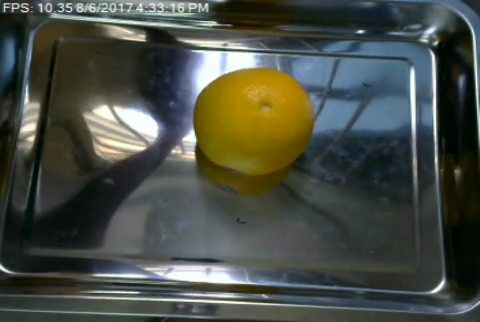Orange: (190, 66, 314, 174)
